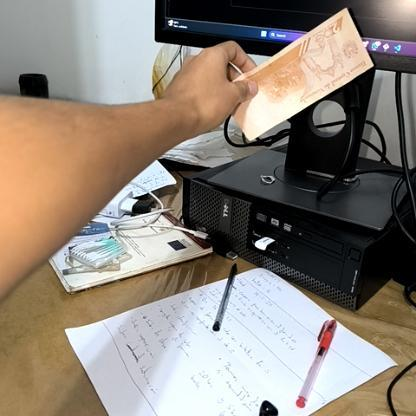twenty-back-vef: (226, 9, 374, 141)
